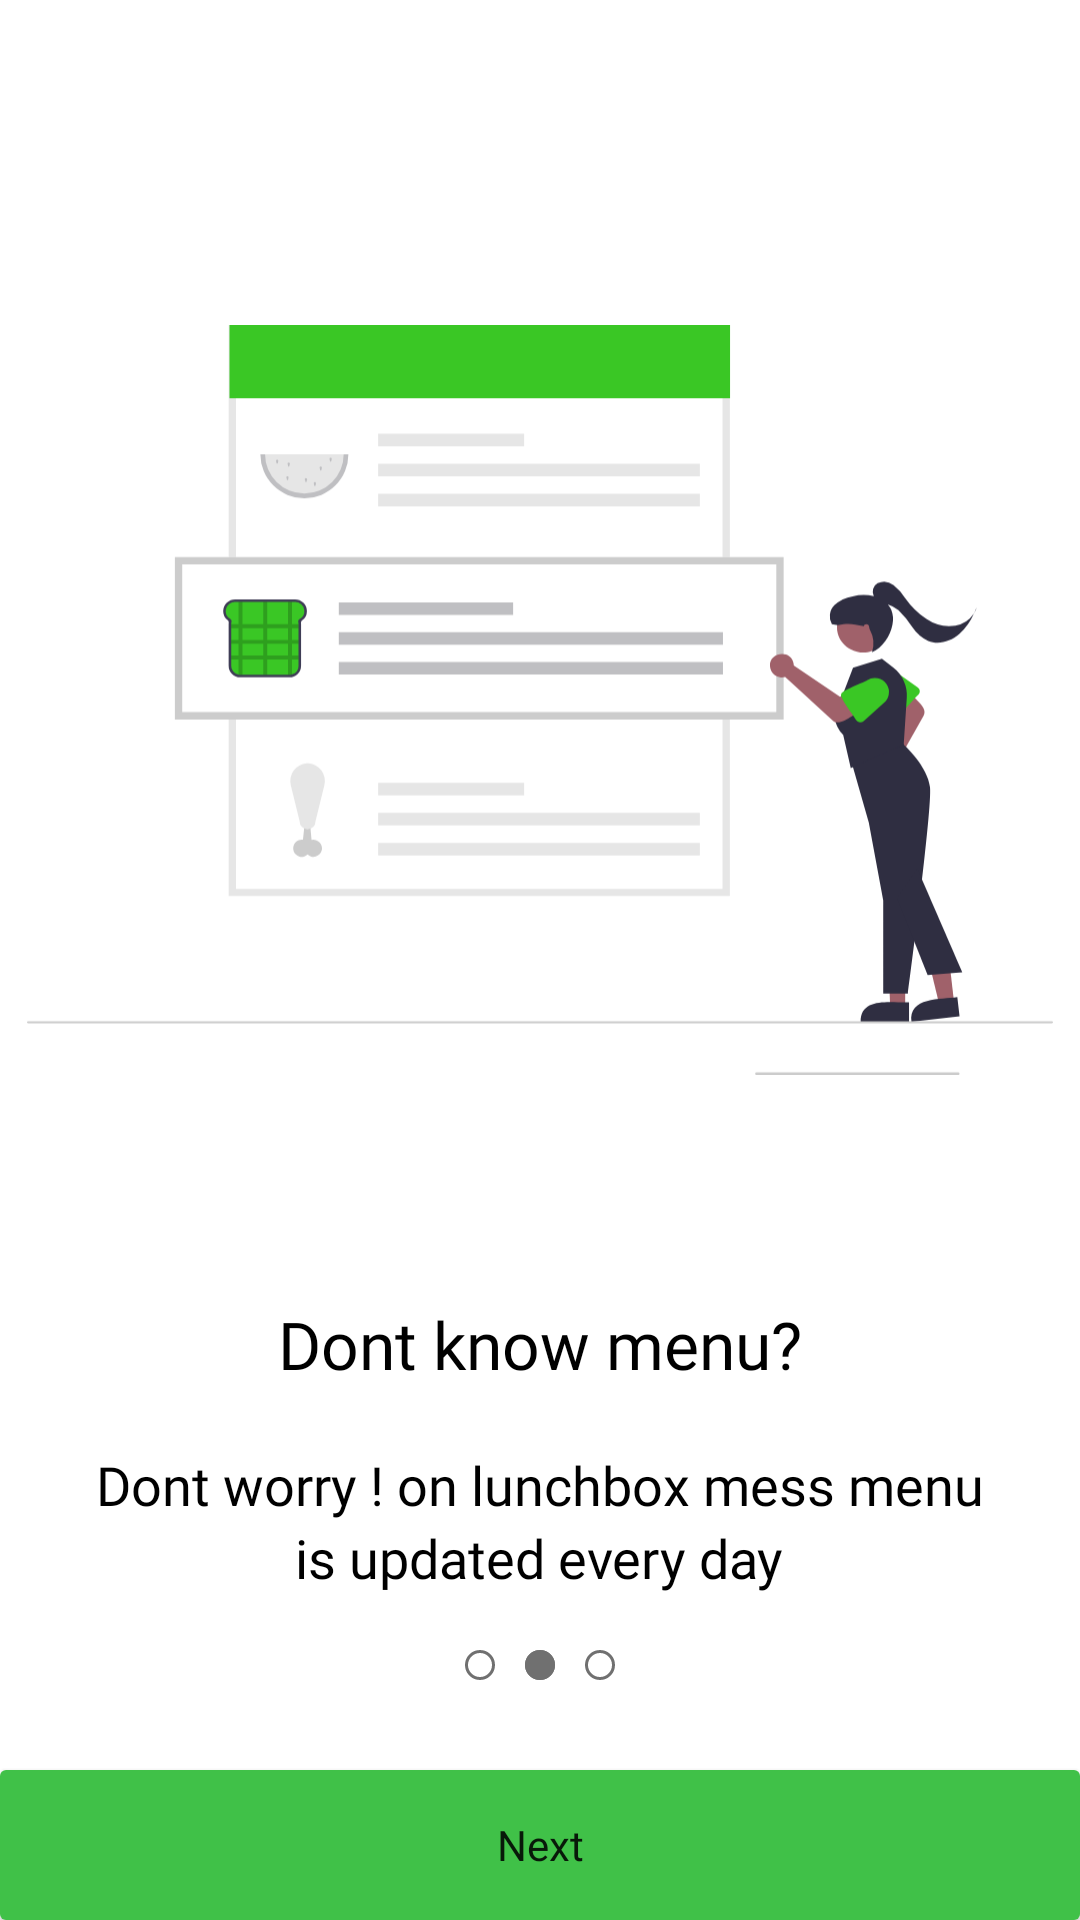

Icons on this 1080 × 1920 Android screen, each with the point to tap as [x,y]:
onboardingscroll: [540,1665]
